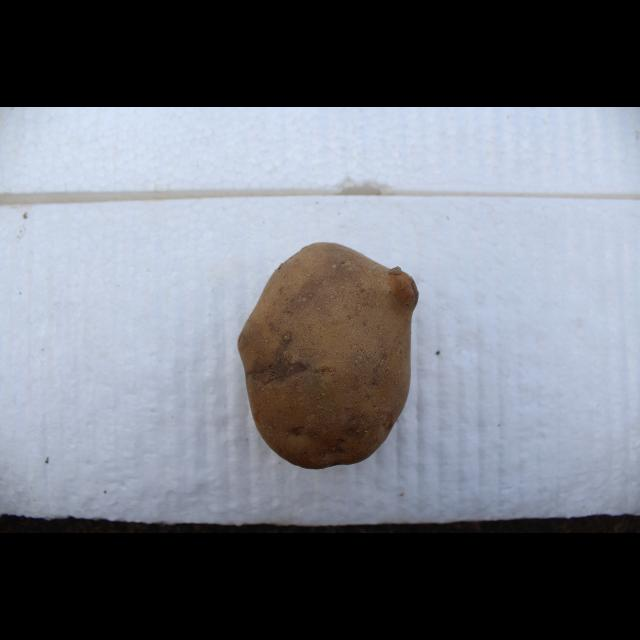Damaged potato: (235, 238, 423, 474)
